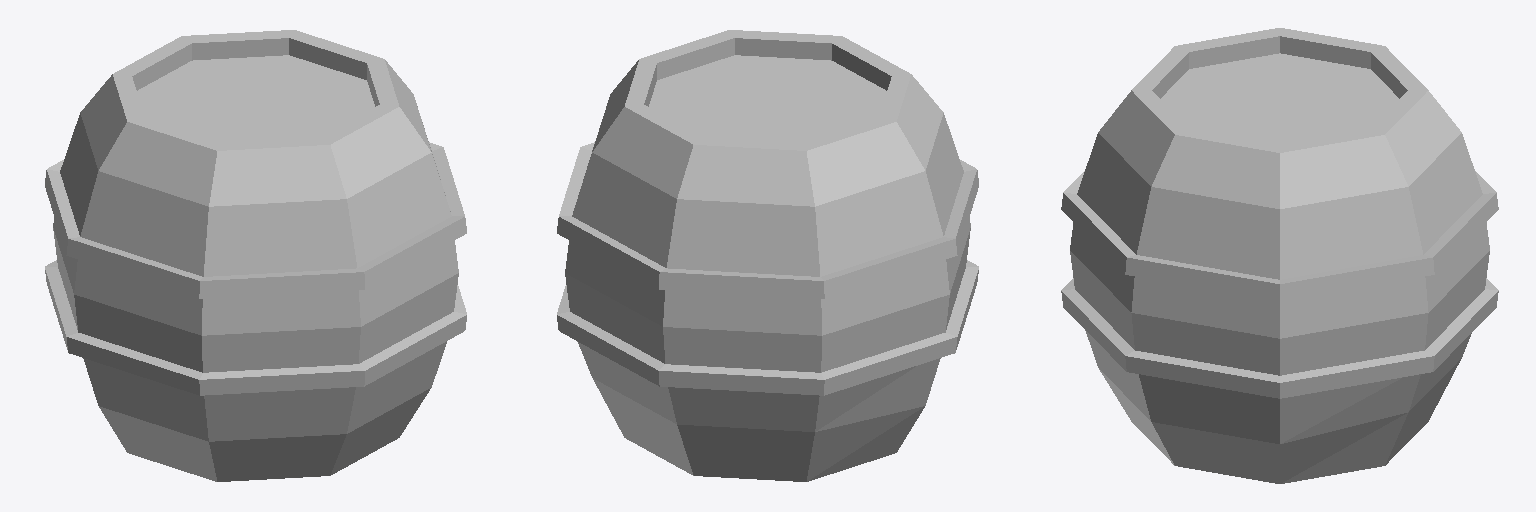
The model's file is Pipe.obj.
3 renders of one model, left to right at view 1: azimuth 30°, elevation 25°; view 2: azimuth 150°, elevation 25°; view 3: azimuth 270°, elevation 25°, orthographic.
Visible parts, largest first — view 1: pSphere1; view 2: pSphere1; view 3: pSphere1.
Boxes of the visible parts, box(x1,y1,x2,y2) form: pSphere1: box(45, 30, 466, 481); pSphere1: box(557, 30, 978, 481); pSphere1: box(1061, 28, 1498, 483).
Size of the model in its own units: 2.08 by 1.74 by 2.08.